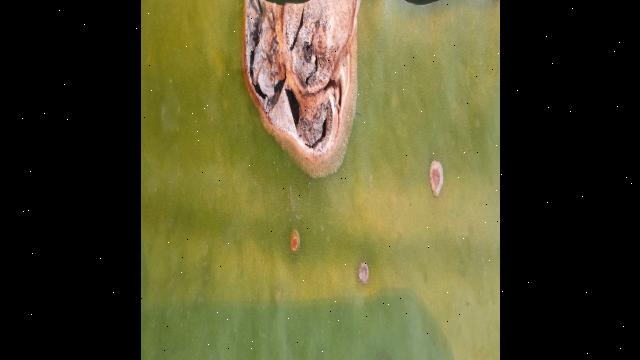stemcanker: (240, 1, 365, 178), (428, 155, 447, 199), (354, 258, 373, 287), (286, 228, 304, 256)
